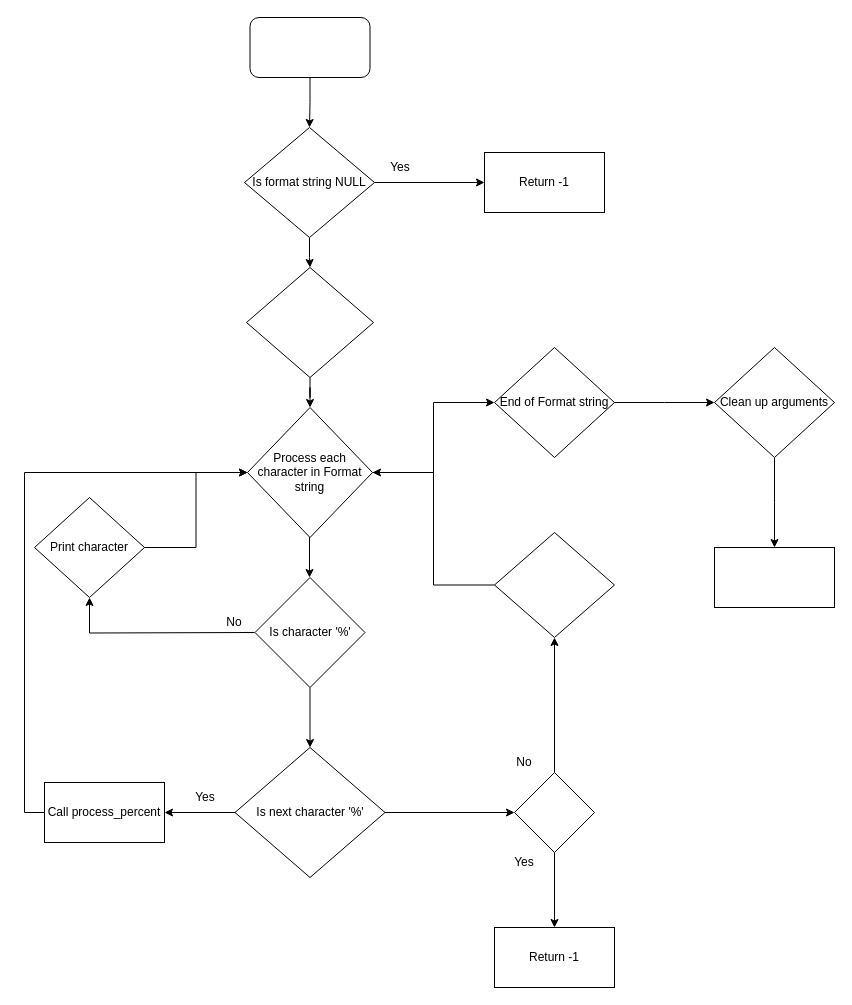
Some shapes in this 852 by 1005 pixel diagram are drawn without their labels. The shapes that lost their labels are listed below. From the top down, each one's box as (x1, y1, x2, y2) in pixels, then its label:
(249, 16, 370, 78): Start
(246, 266, 374, 378): Initialize arguments
(494, 532, 614, 638): Call helper_format
(714, 546, 834, 608): Return WrittenBytes
(514, 772, 594, 852): Is null byte
